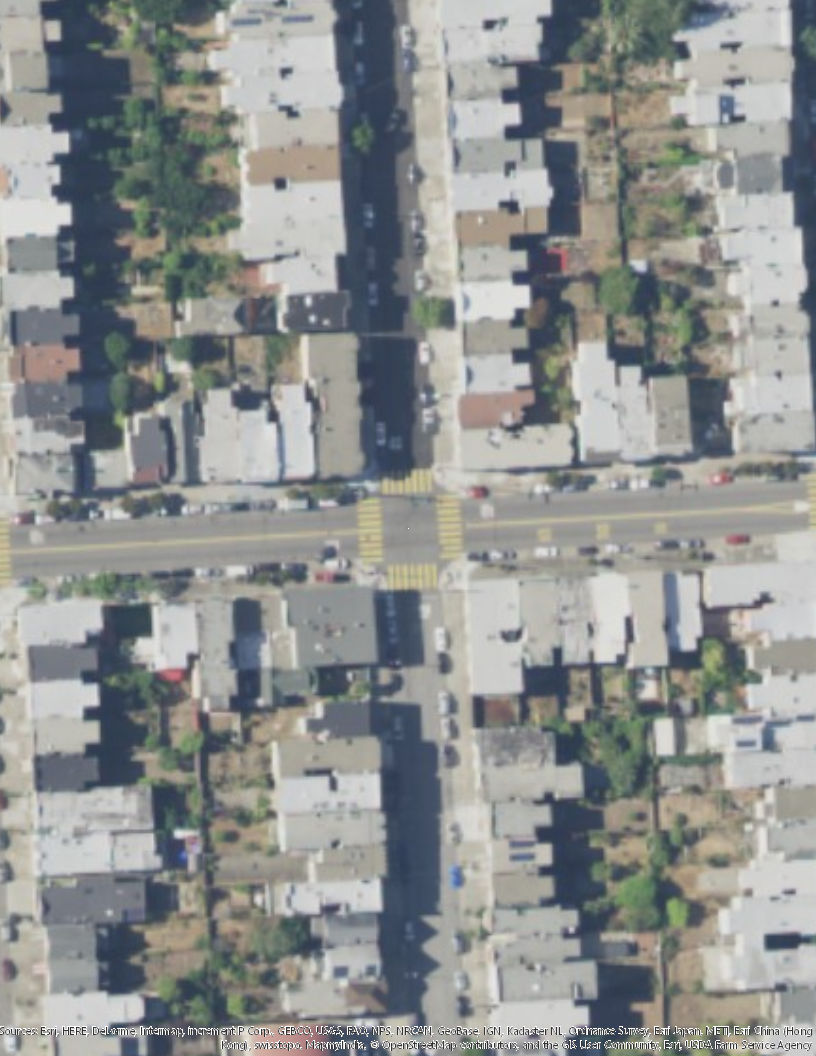zebracross: (356, 499, 385, 564), (438, 494, 461, 561), (388, 565, 439, 592), (381, 471, 435, 495), (1, 521, 12, 590)
